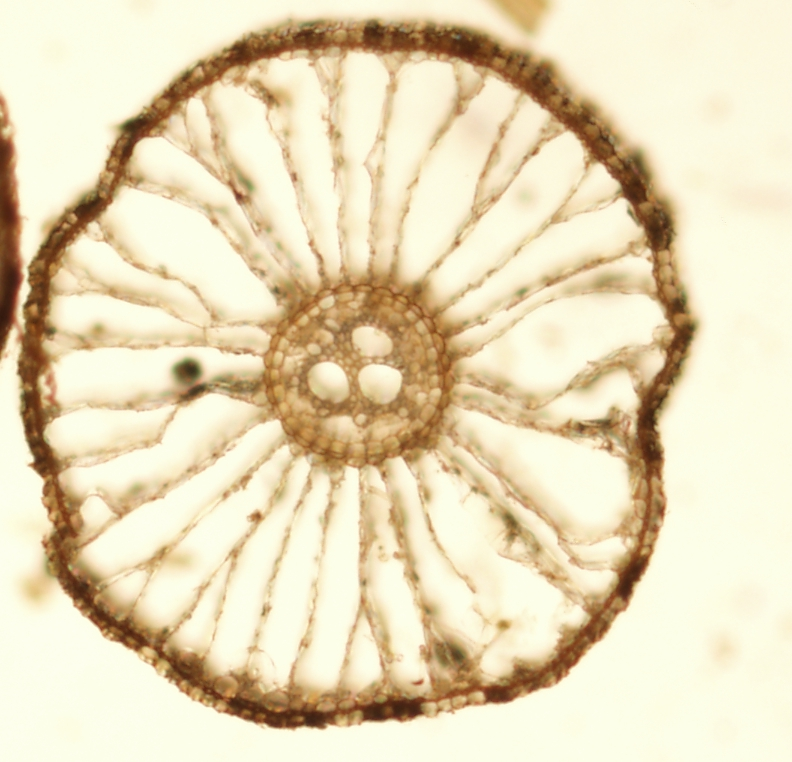lm: (308, 361, 351, 403), (358, 363, 402, 404), (351, 326, 394, 357)
